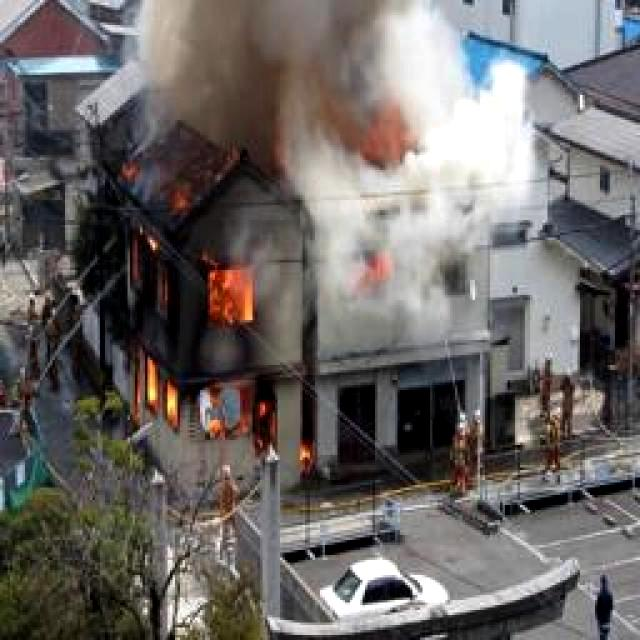fire: (99, 158, 317, 486)
